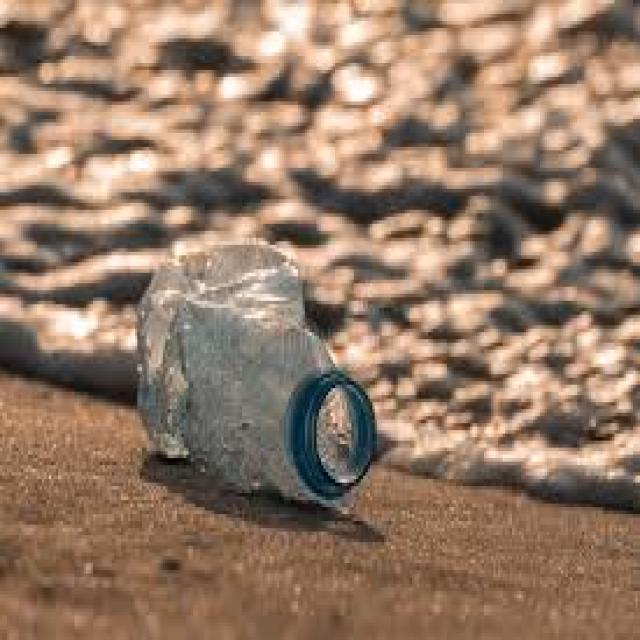plastic bottle: (116, 235, 386, 504)
